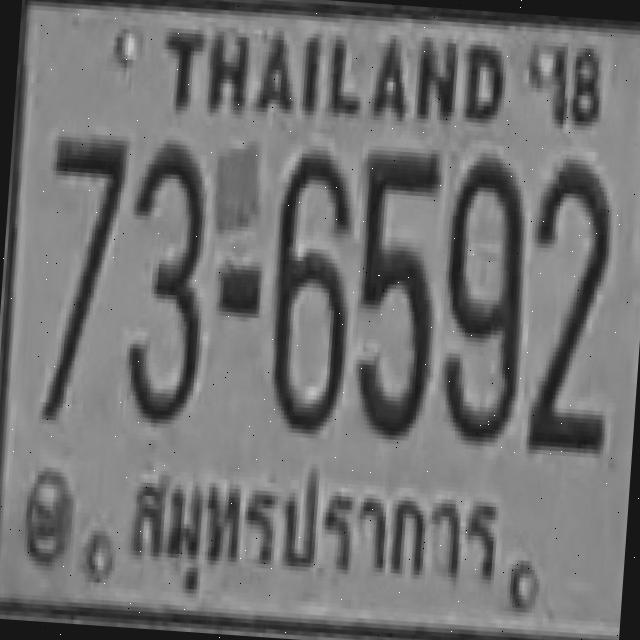0: (434, 150, 528, 442)
2: (520, 157, 620, 454), (520, 156, 616, 436)
3: (118, 139, 212, 423)
5: (346, 144, 440, 436)
6: (262, 145, 356, 429)
7: (36, 134, 127, 422), (42, 132, 127, 338)
9: (433, 150, 530, 443)
SamutPrakan: (114, 444, 514, 622)
